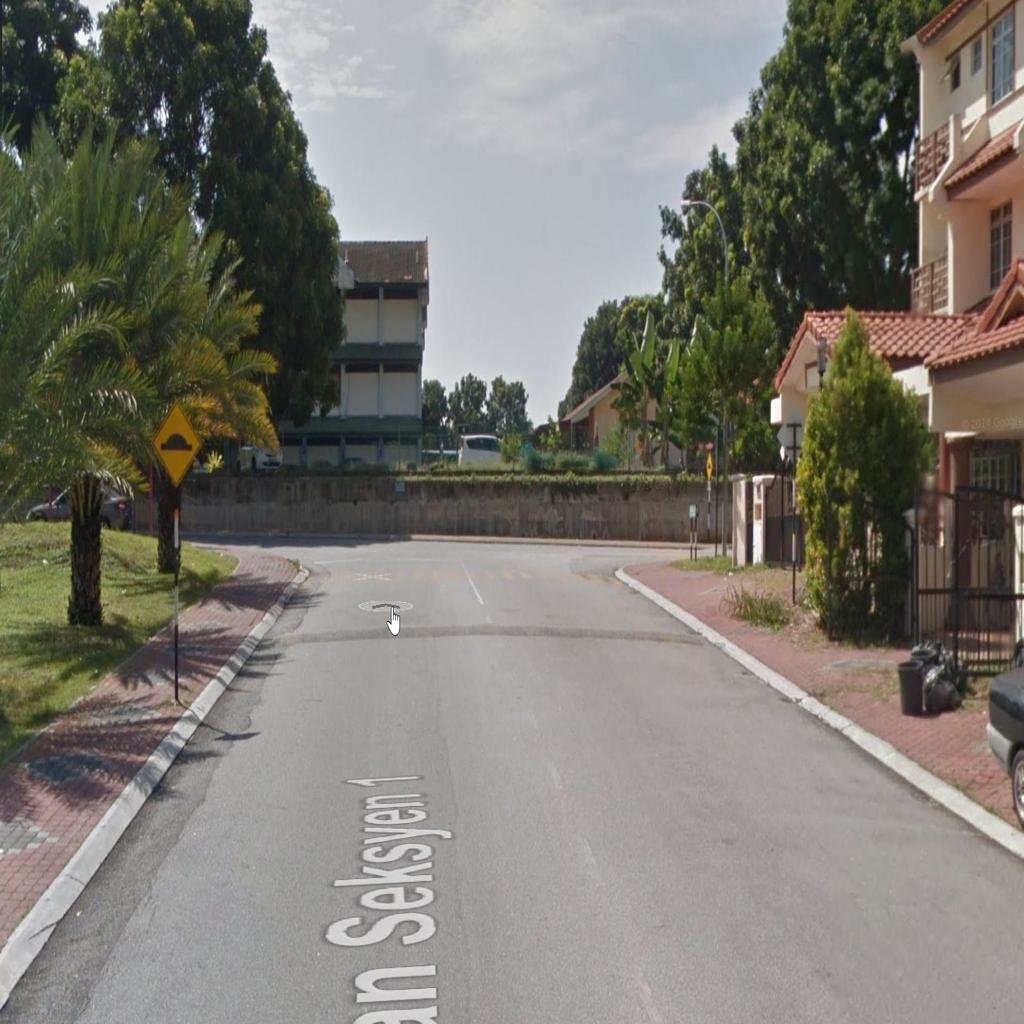Junction: (188, 495, 356, 598), (561, 485, 733, 583)
